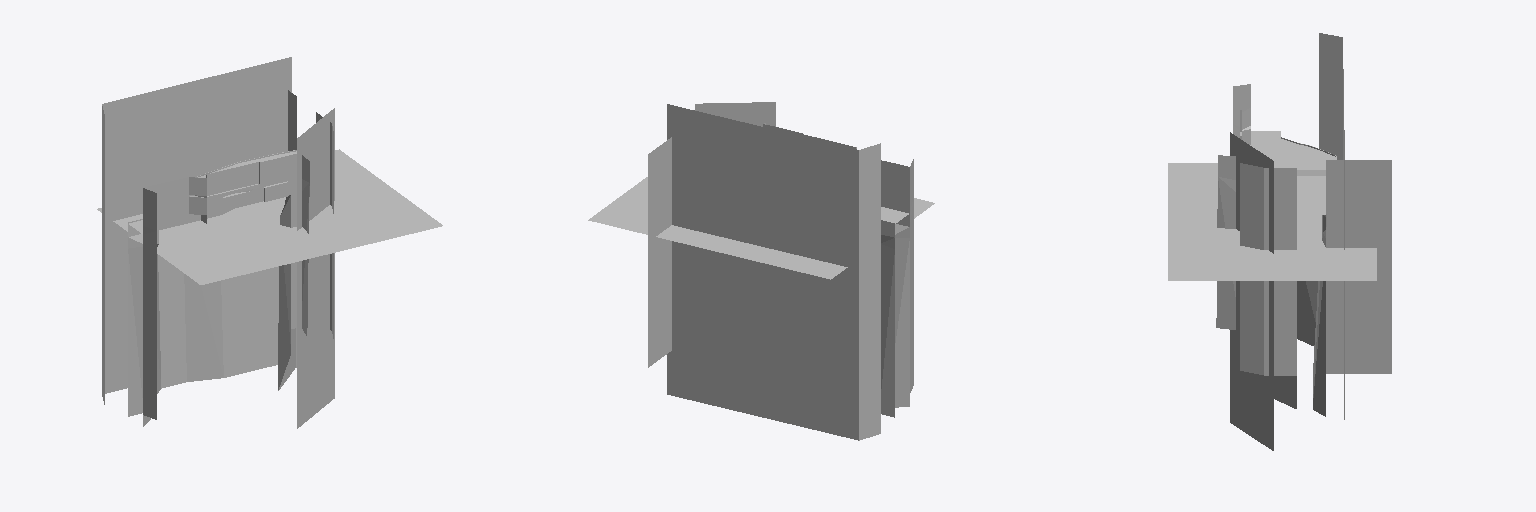
The model's file is STG0100_COLI_03.OBJ.
3 views of the same model, side by side, from view 1: azimuth 30°, elevation 25°; view 2: azimuth 150°, elevation 25°; view 3: azimuth 270°, elevation 25° (orthographic).
Visible parts, largest first — view 1: STG0100_COLI_03_[number redacted], STG0100_COLI_03_[number redacted], STG0100_COLI_03_[number redacted], STG0100_COLI_03_[number redacted]; view 2: STG0100_COLI_03_[number redacted], STG0100_COLI_03_[number redacted], STG0100_COLI_03_[number redacted], STG0100_COLI_03_[number redacted]; view 3: STG0100_COLI_03_[number redacted], STG0100_COLI_03_[number redacted], STG0100_COLI_03_[number redacted], STG0100_COLI_03_[number redacted], STG0100_COLI_03_[number redacted].
Boxes of the visible parts, x1,y1,x2,y2 form: STG0100_COLI_03_[number redacted]: [102, 57, 334, 428]; STG0100_COLI_03_[number redacted]: [128, 90, 333, 426]; STG0100_COLI_03_[number redacted]: [97, 149, 442, 284]; STG0100_COLI_03_[number redacted]: [128, 150, 309, 419]; STG0100_COLI_03_[number redacted]: [667, 102, 880, 440]; STG0100_COLI_03_[number redacted]: [648, 137, 913, 417]; STG0100_COLI_03_[number redacted]: [588, 177, 934, 279]; STG0100_COLI_03_[number redacted]: [763, 123, 913, 392]; STG0100_COLI_03_[number redacted]: [1216, 84, 1391, 416]; STG0100_COLI_03_[number redacted]: [1168, 163, 1376, 280]; STG0100_COLI_03_[number redacted]: [1230, 33, 1344, 450]; STG0100_COLI_03_[number redacted]: [1250, 131, 1336, 221]; STG0100_COLI_03_[number redacted]: [1218, 108, 1335, 214].
Bounding box in the file's own units: 1654 × 1904 × 1220.